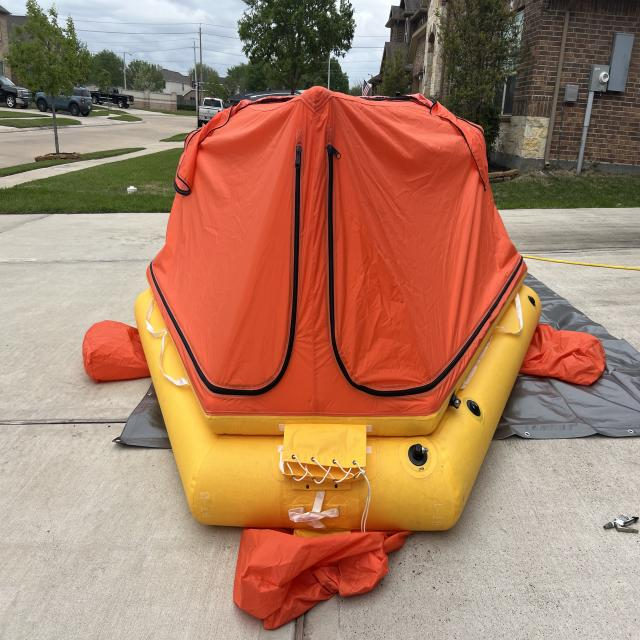Multi-person_life_raft: (84, 84, 607, 632)
